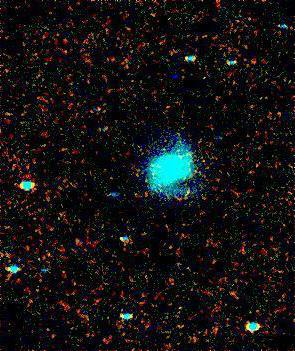star: (149, 138, 179, 168)
